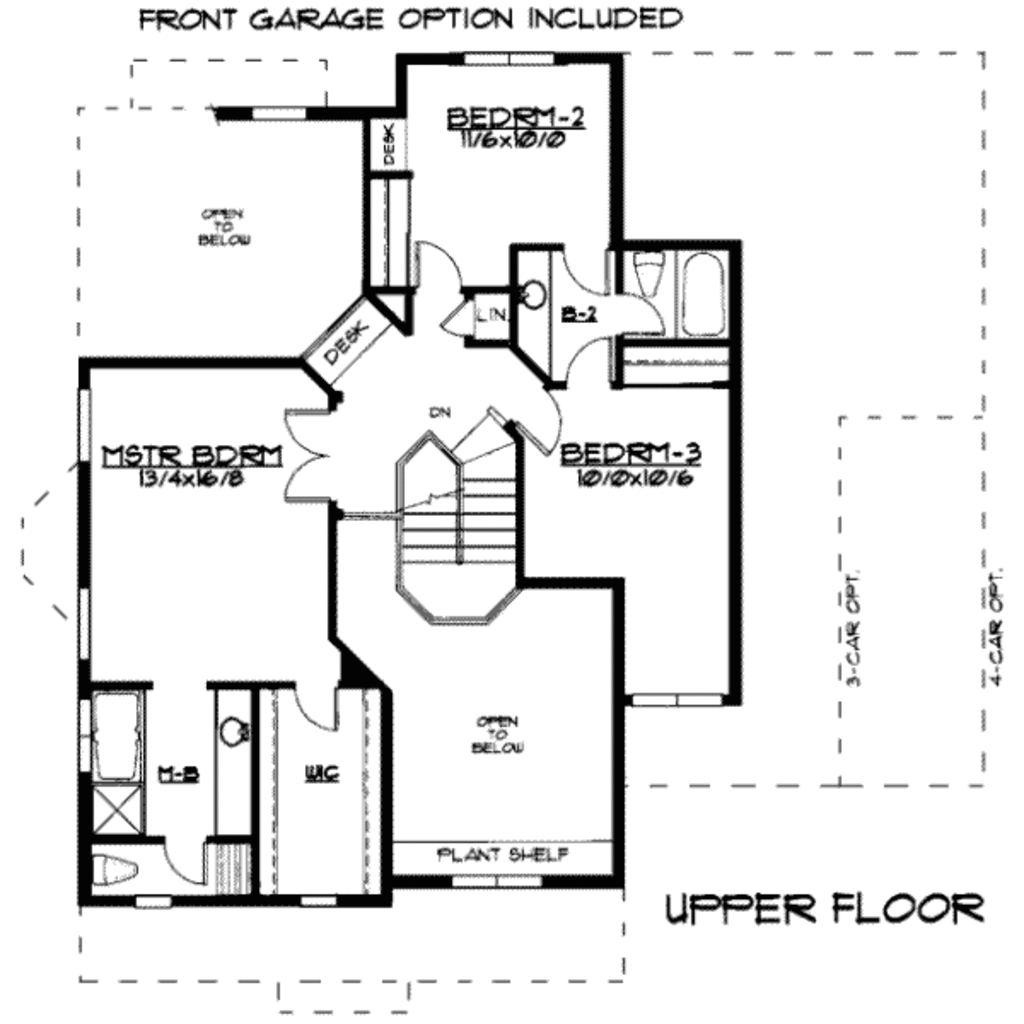door: (507, 393, 577, 470), (288, 400, 338, 506), (411, 235, 468, 300), (555, 237, 614, 295), (611, 282, 669, 340), (559, 339, 621, 392), (285, 686, 351, 731), (163, 843, 213, 884), (441, 296, 479, 341)
large_sink: (627, 245, 676, 302), (92, 845, 139, 891)
small_sink: (206, 702, 269, 770), (518, 264, 559, 333)
stairs: (401, 417, 521, 627)
tub: (86, 692, 154, 779), (676, 247, 730, 341)
window: (62, 383, 101, 463), (459, 45, 562, 71), (239, 95, 318, 128), (448, 871, 552, 894), (69, 586, 99, 662), (631, 691, 725, 714), (294, 888, 337, 915)
